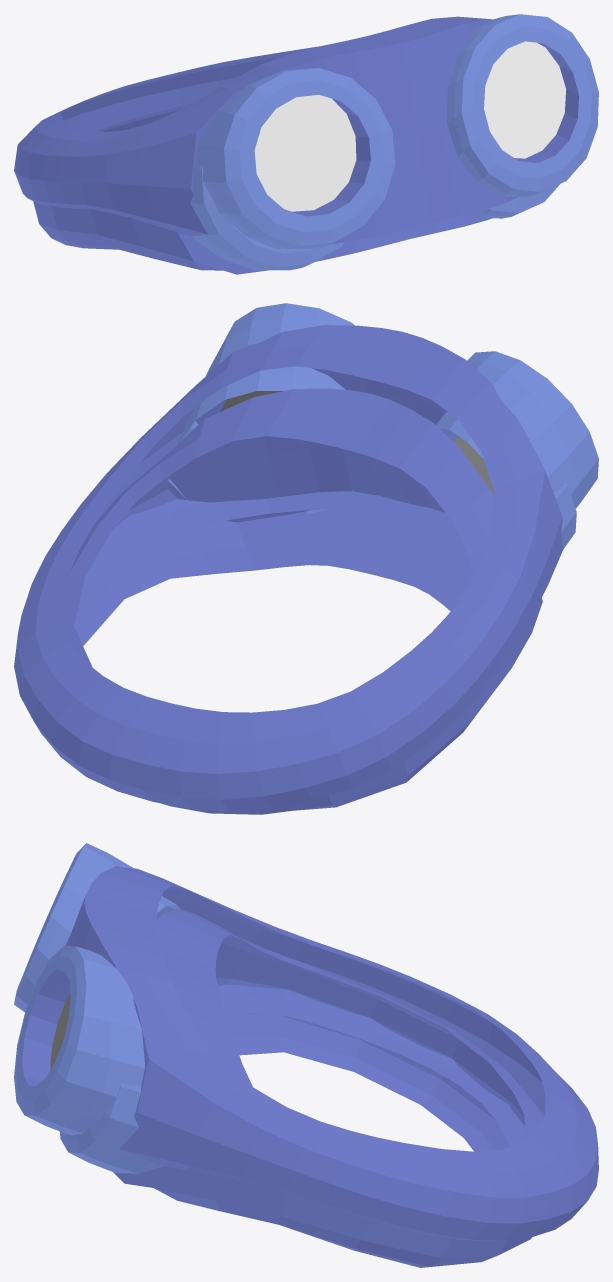
Rendered from goggles.glb.
3 views of the same model, one above another, from view 1: azimuth 30°, elevation 25°; view 2: azimuth 150°, elevation 25°; view 3: azimuth 270°, elevation 25° (orthographic).
Visible parts, largest first — view 1: normal.014, normal.012, small.008, small.009; view 2: normal.012, small.008, normal.014, small.009; view 3: normal.012, small.008, normal.014, small.009.
Part boxes in pixels (box(x1,y1,x2,y2)): normal.014: box(196, 14, 598, 248); normal.012: box(14, 16, 517, 249); small.008: box(33, 104, 493, 274); small.009: box(190, 162, 559, 270); normal.012: box(14, 325, 563, 811); small.008: box(61, 388, 542, 814); normal.014: box(191, 303, 598, 508); small.009: box(168, 366, 576, 548); normal.012: box(66, 866, 598, 1241); small.008: box(113, 909, 544, 1267); normal.014: box(14, 843, 144, 1135); small.009: box(59, 896, 180, 1173).
Size of the model in its own units: 1.49 by 1 by 1.74.
